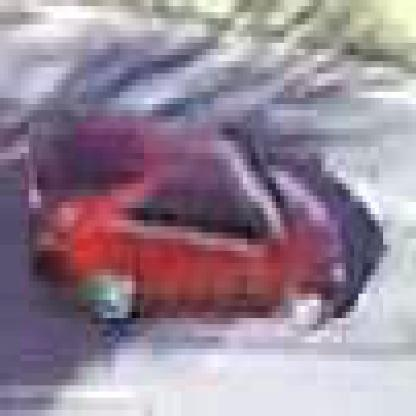car: (26, 124, 359, 326)
